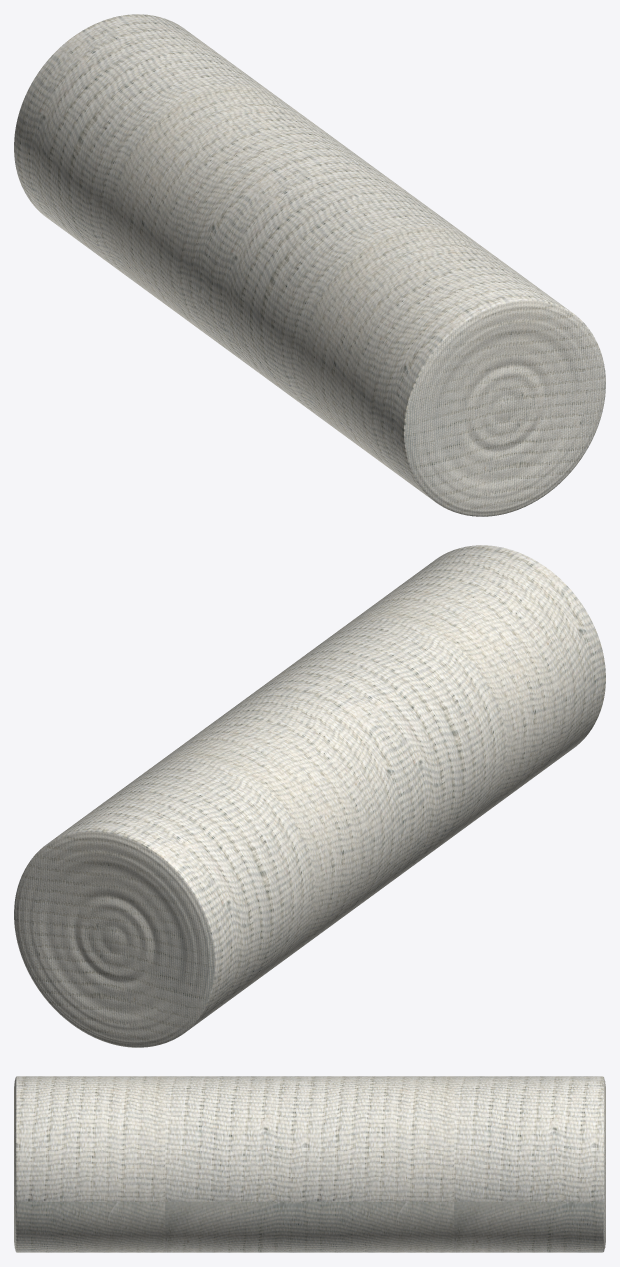
File: Garza.fbx
3 views of the same model, one above another, from view 1: azimuth 30°, elevation 25°; view 2: azimuth 150°, elevation 25°; view 3: azimuth 270°, elevation 25° (orthographic). The views are drawn at different scales.
Parts seen in each view (by area): view 1: cadnav.com; view 2: cadnav.com; view 3: cadnav.com.
Boxes of the visible parts, x1,y1,x2,y2 form: cadnav.com: (14,14,605,516); cadnav.com: (14,545,605,1047); cadnav.com: (14,1076,605,1252).
Bounding box in the file's own units: 11.66 × 11.66 × 39.17.
1 material, 1 textured.
